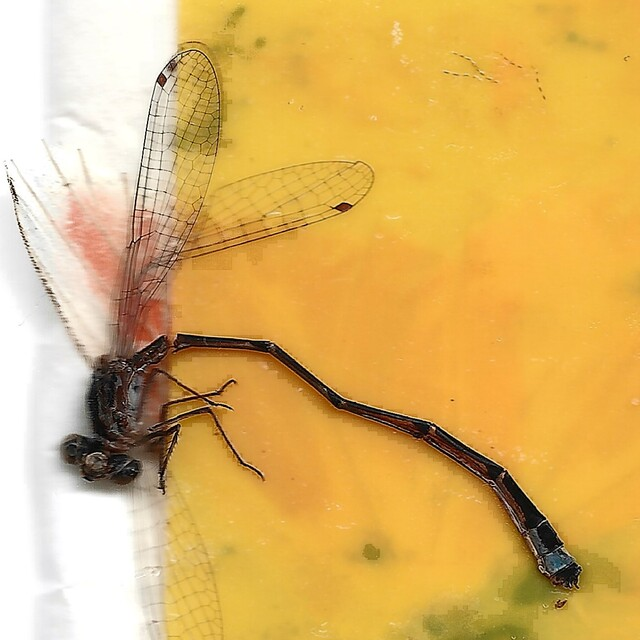Odonata: (57, 50, 583, 590)
